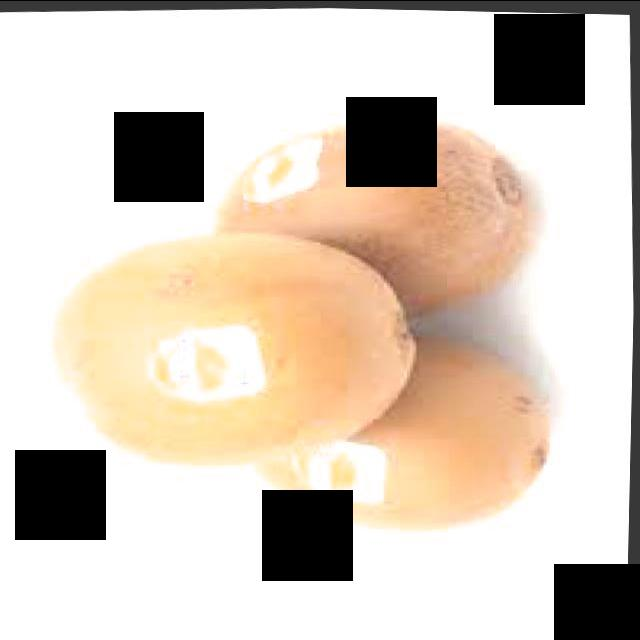kiwi: (44, 229, 425, 478), (241, 318, 570, 540), (203, 105, 540, 297)
